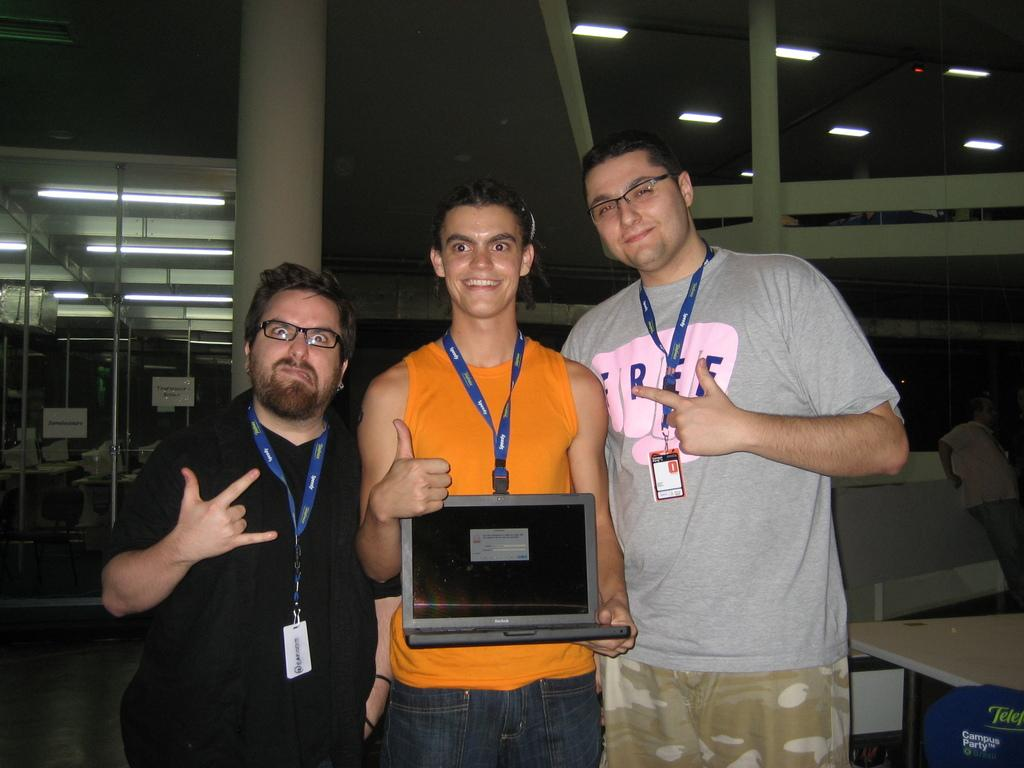Laptop: (380, 486, 616, 666)
